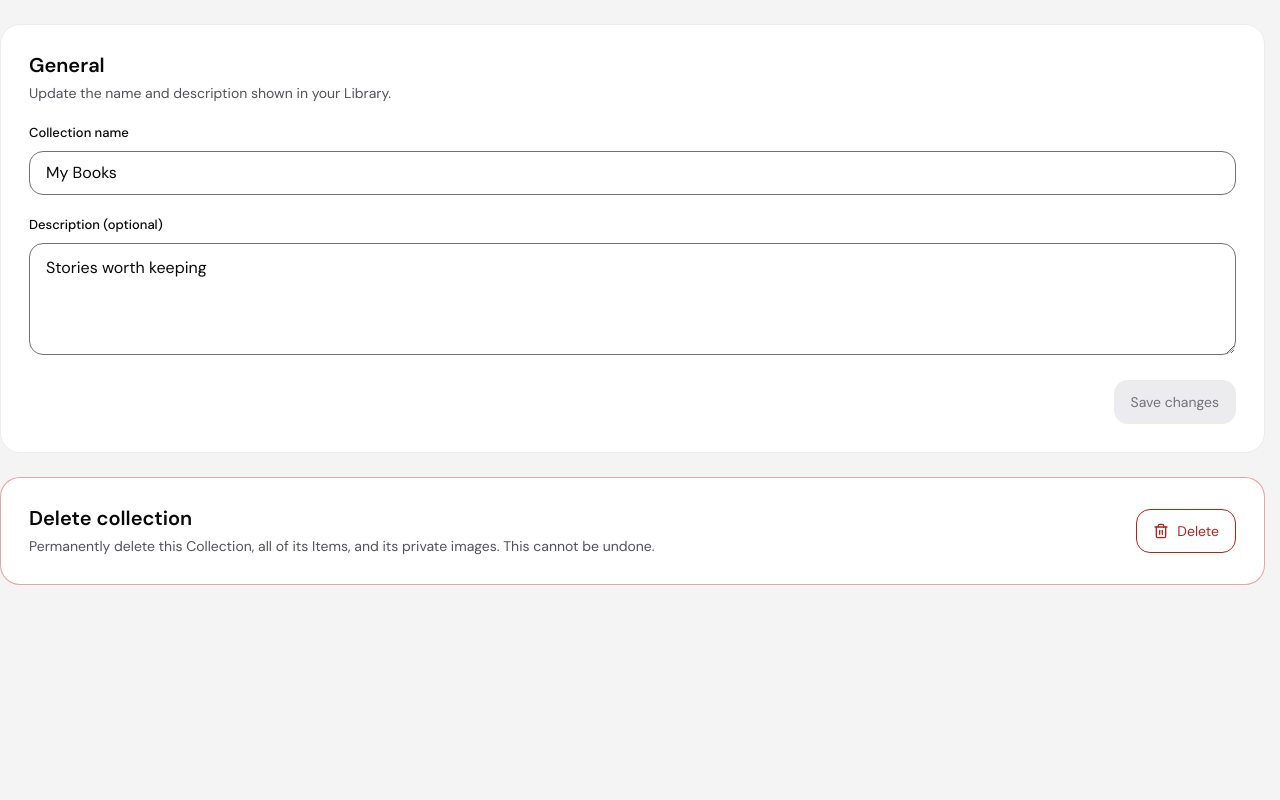
Collection settings › allows retry with the current name after a concurrent rename
Click the button with aria-label "Delete collection": (1186, 531) x1=1136 y1=509 x2=1236 y2=553
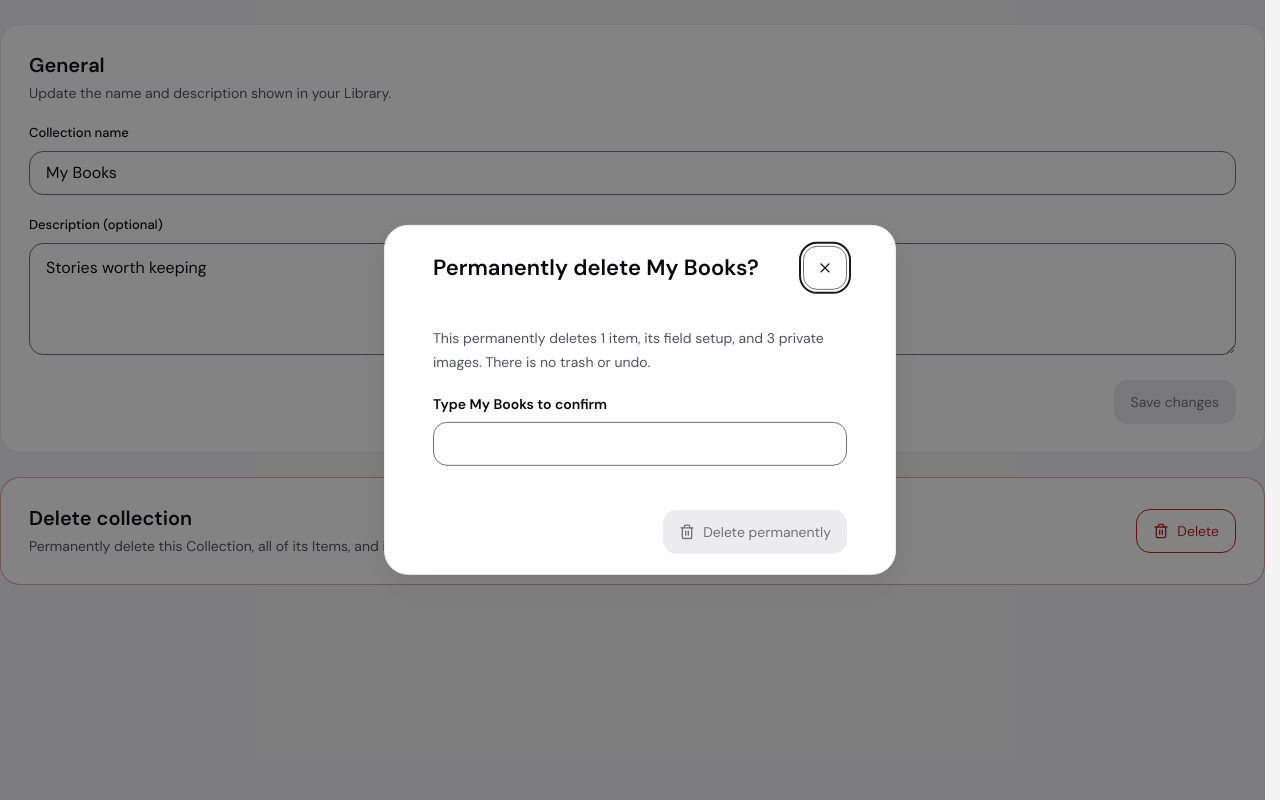
In the field labelled "Type My Books to confirm": (640, 444) x1=433 y1=422 x2=847 y2=466, type "My Books"
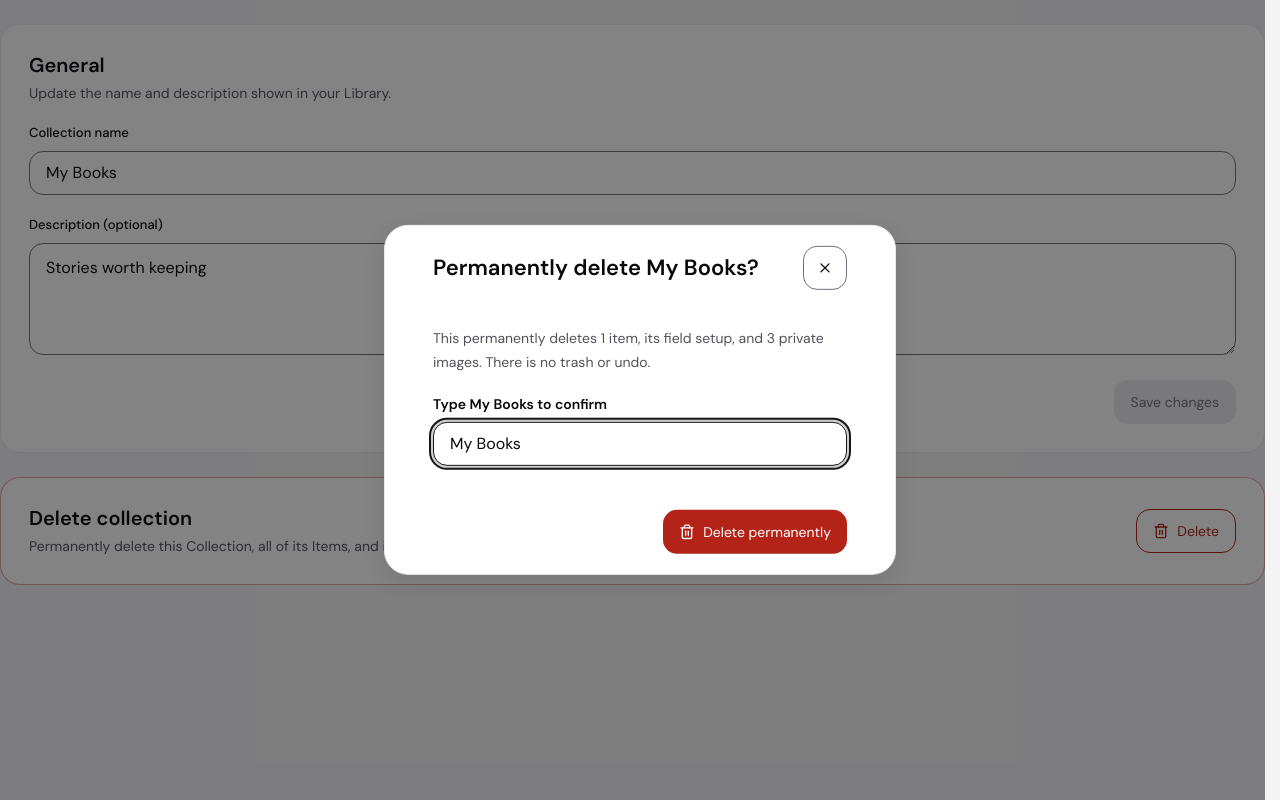
Click the button "Delete permanently": (755, 532) x1=663 y1=510 x2=847 y2=554
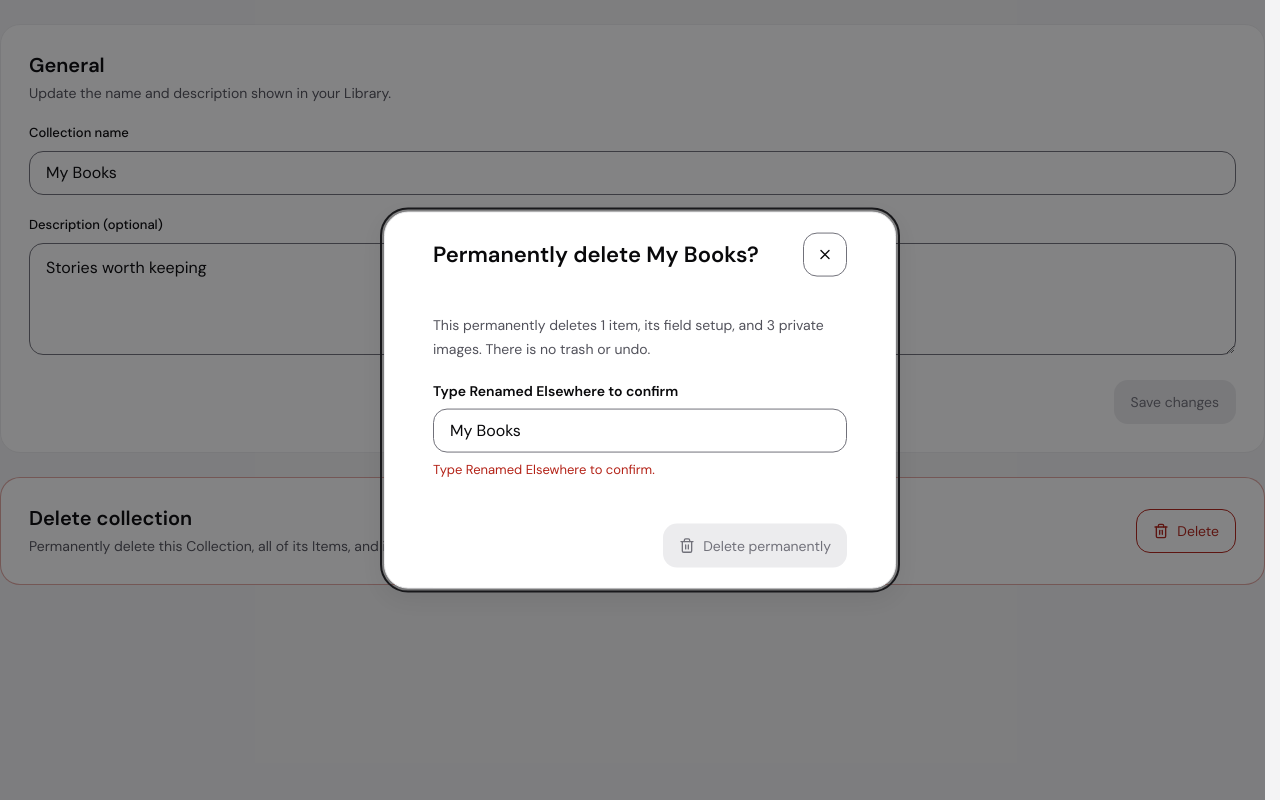
Replace the text in the field labelled "Type Renamed Elsewhere to confirm" with "Renamed Elsewhere": (640, 431) x1=433 y1=409 x2=847 y2=453
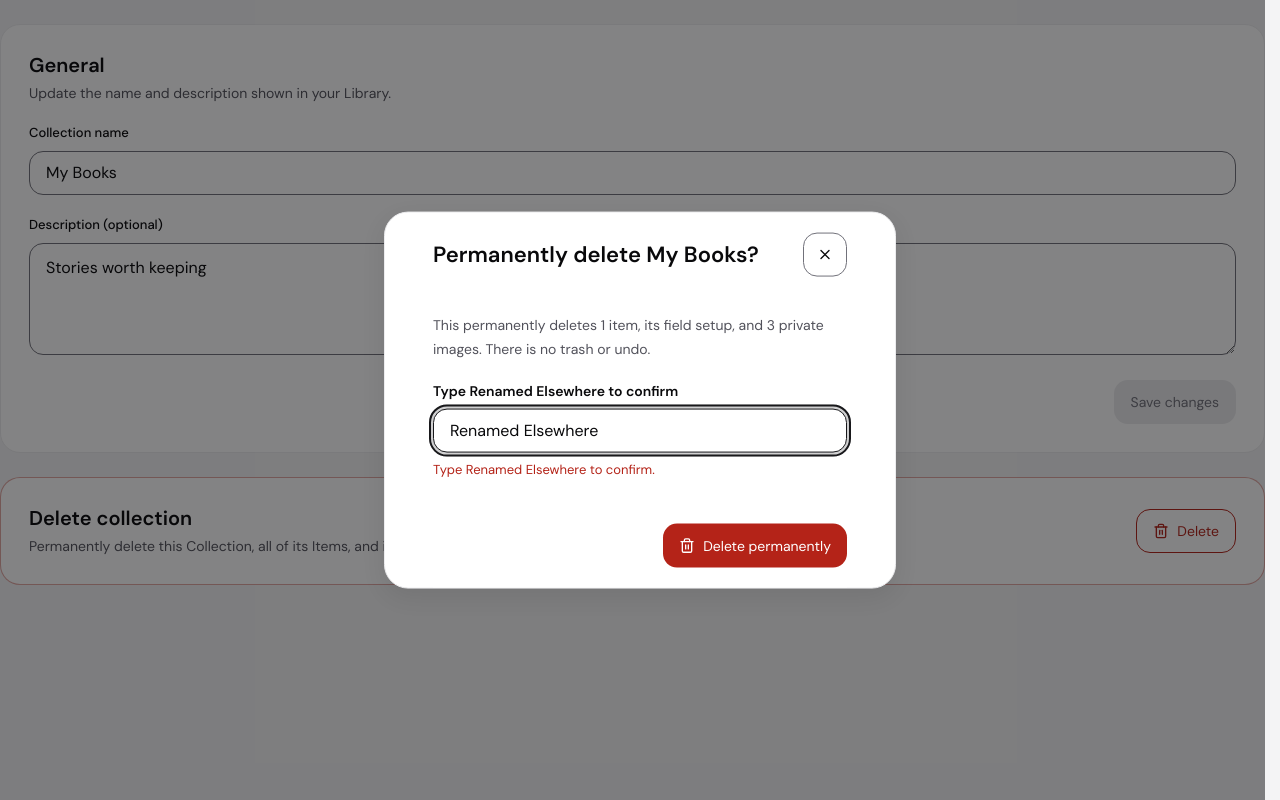
Check: the button "Delete permanently" is enabled, box x1=663 y1=523 x2=847 y2=567
